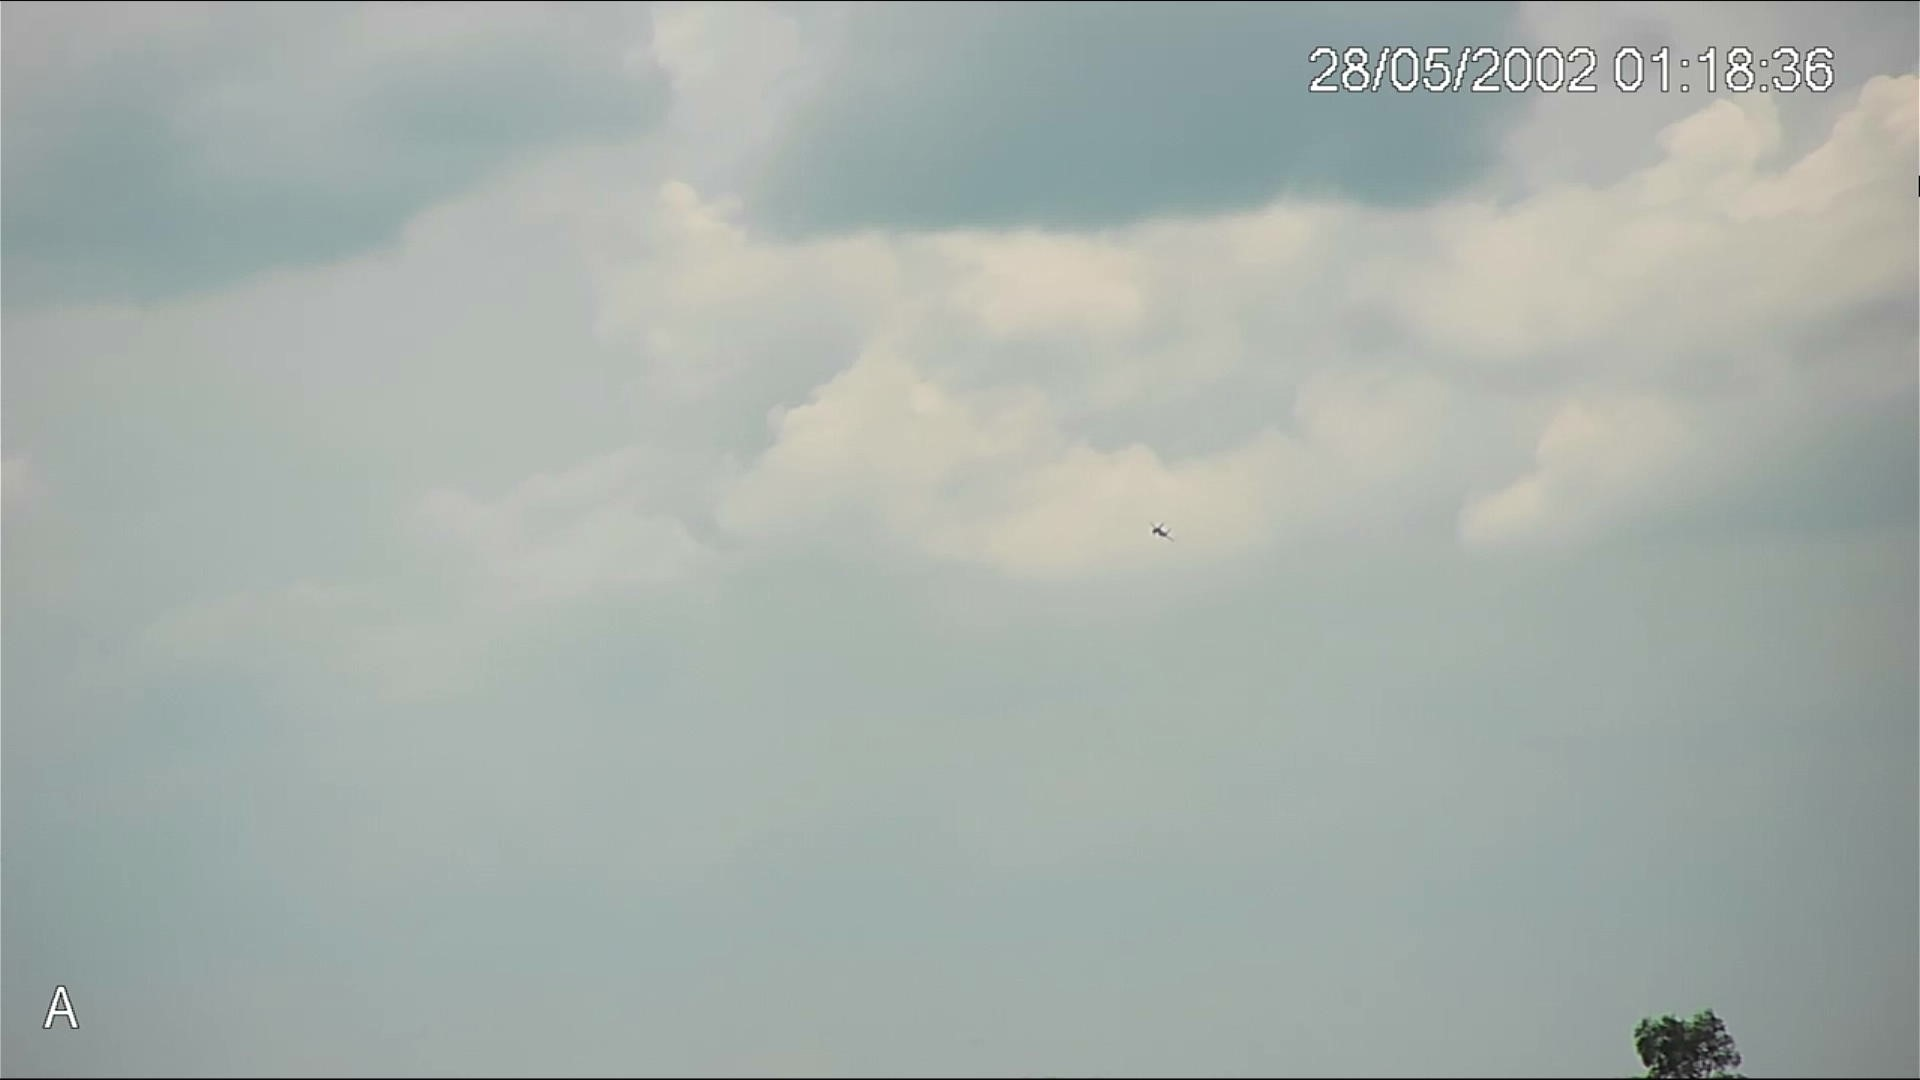SU_30: (1150, 522, 1174, 541)
